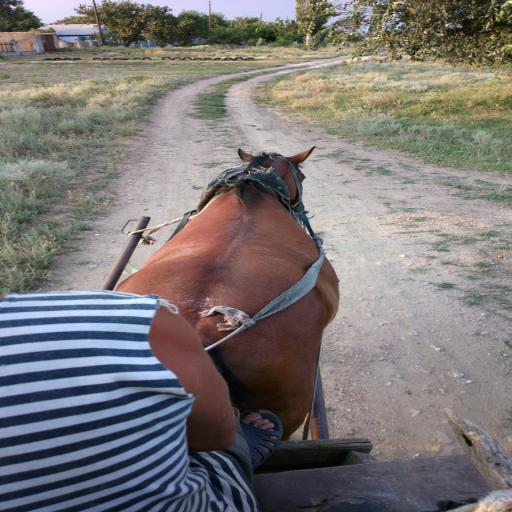horse: (112, 146, 344, 441)
